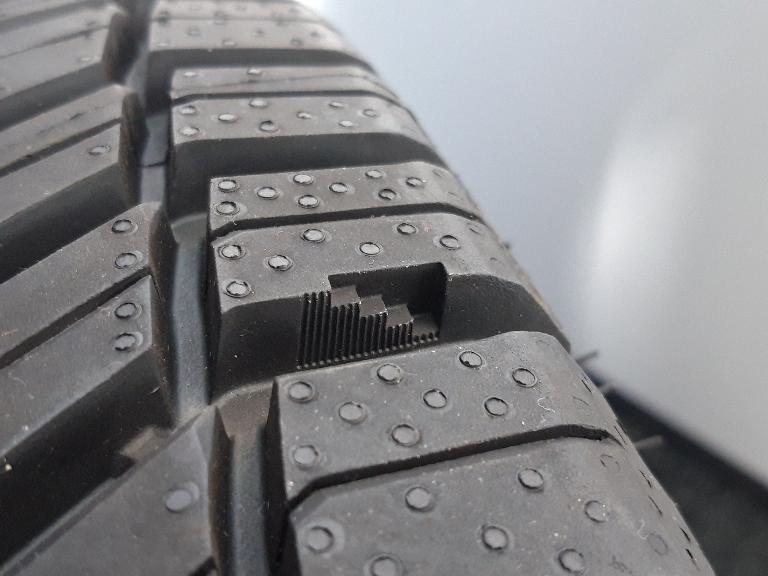temoin:100: (285, 254, 463, 375)
